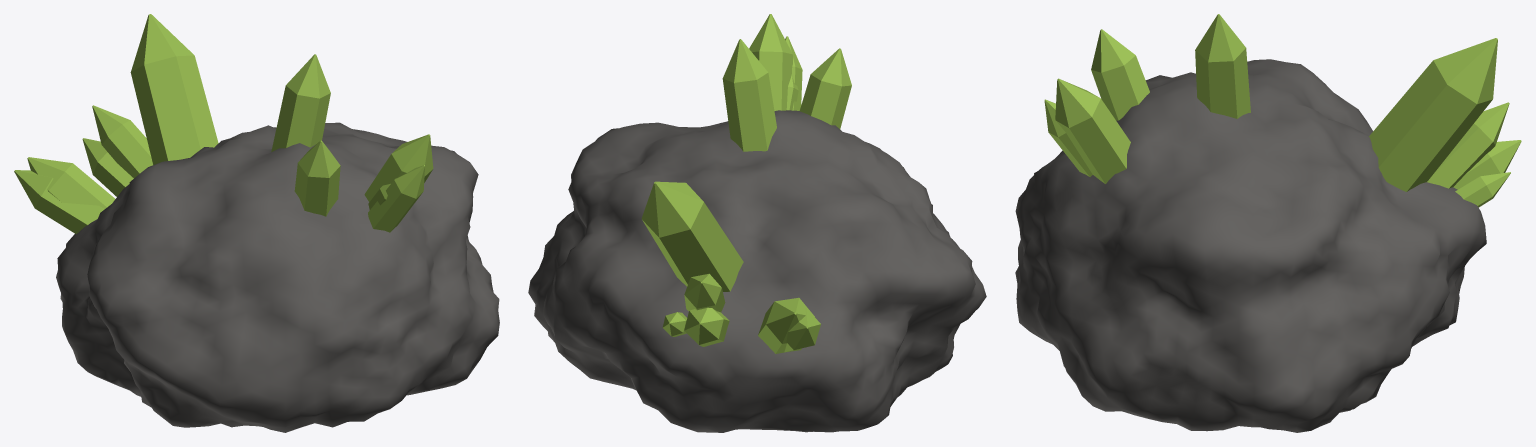
File: olivine_deep.glb
3 renders of one model, left to right at view 1: azimuth 30°, elevation 25°; view 2: azimuth 150°, elevation 25°; view 3: azimuth 270°, elevation 25°, orthographic. The views are drawn at different scales.
Parts seen in each view (by area): view 1: olivine_deep; view 2: olivine_deep; view 3: olivine_deep.
Boxes of the visible parts, box(x1,y1,x2,y2) form: olivine_deep: box(14, 14, 499, 432); olivine_deep: box(528, 14, 986, 432); olivine_deep: box(1015, 14, 1521, 432).
Size of the model in its own units: 2.05 by 1.5 by 2.02.
